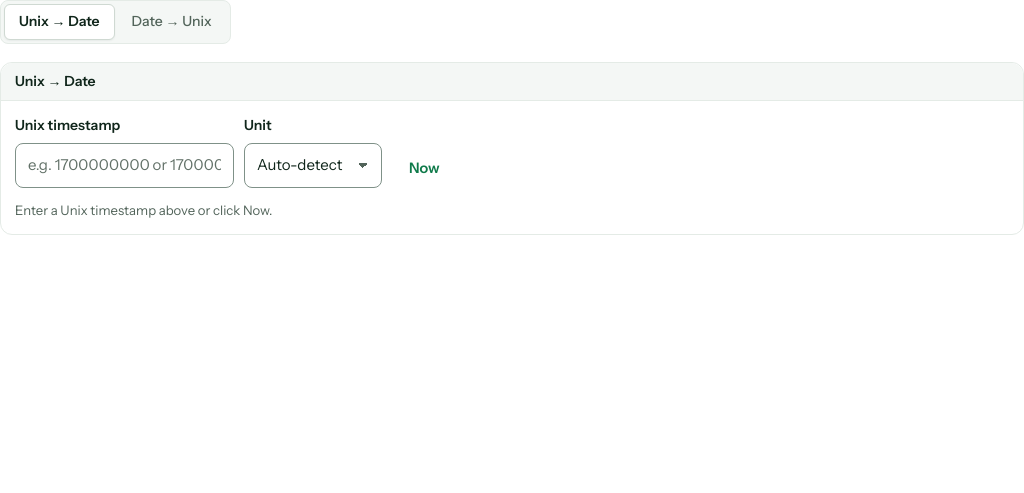
Test: TimestampConverter — Unix → Date › converts timestamp 0 (Unix epoch) to the correct ISO date
Type "0" into the field with placeholder "e.g. 1700000000 or 1700000000000" at coordinates (124, 165), box x1=15 y1=143 x2=234 y2=188
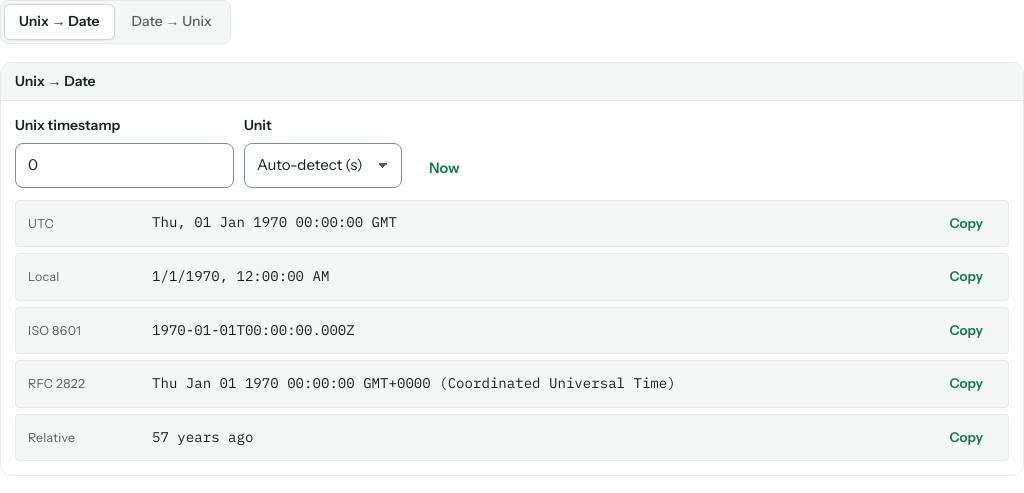
Result: the text "1970-01-01T00:00:00.000Z" is shown at x1=152 y1=320 x2=355 y2=338
